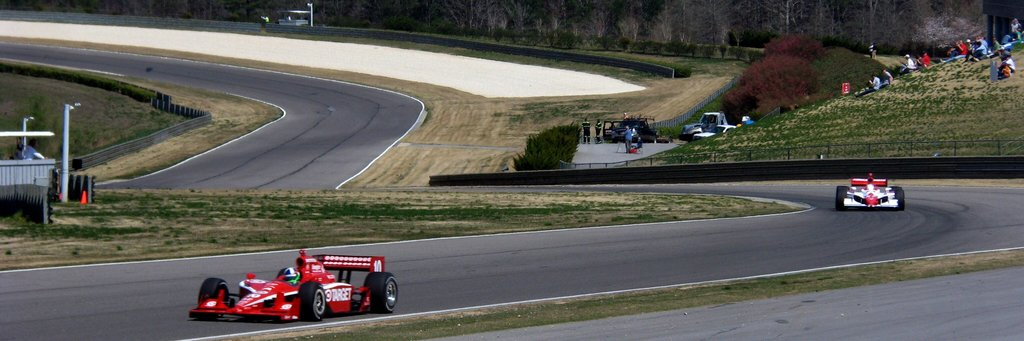Car: (188, 248, 396, 321), (833, 172, 904, 208)
